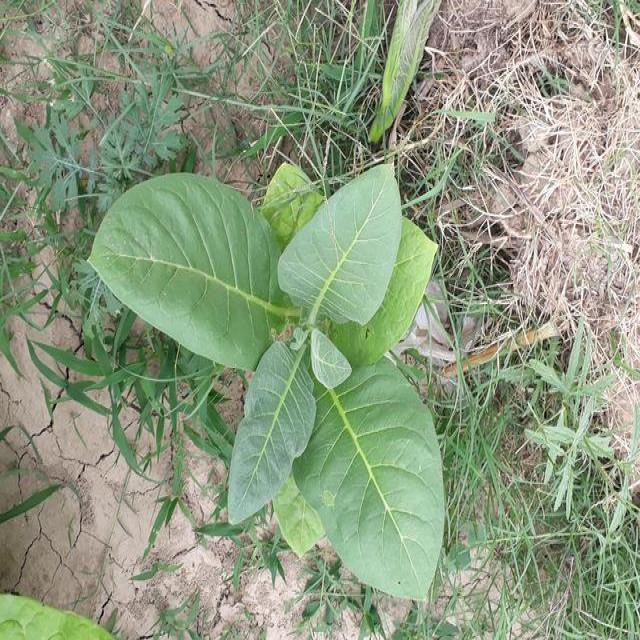crop: (88, 161, 456, 608)
